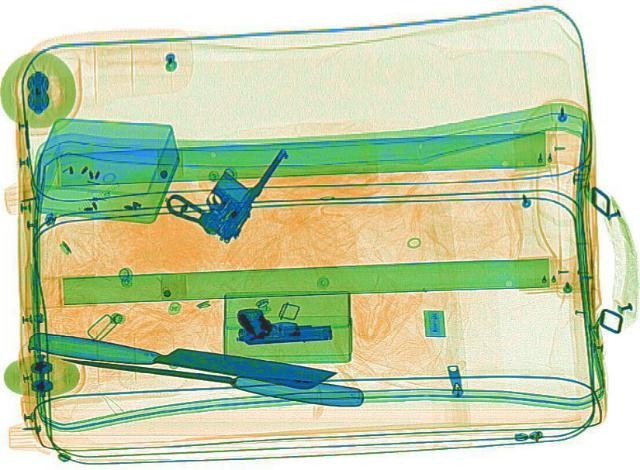Gun: (152, 124, 294, 242), (232, 300, 332, 345)
Knife: (22, 328, 338, 389), (54, 346, 363, 407)
